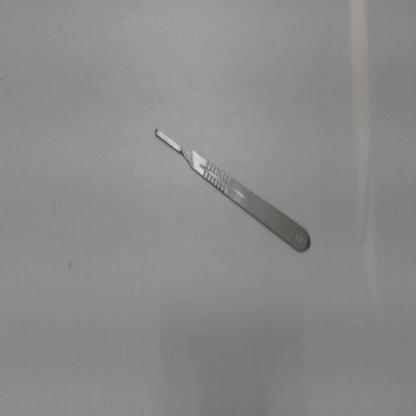No.4 BP Handle: (142, 108, 325, 270)
